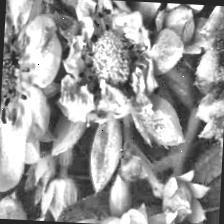Blossom Blight: (74, 8, 152, 105), (0, 19, 35, 125)
